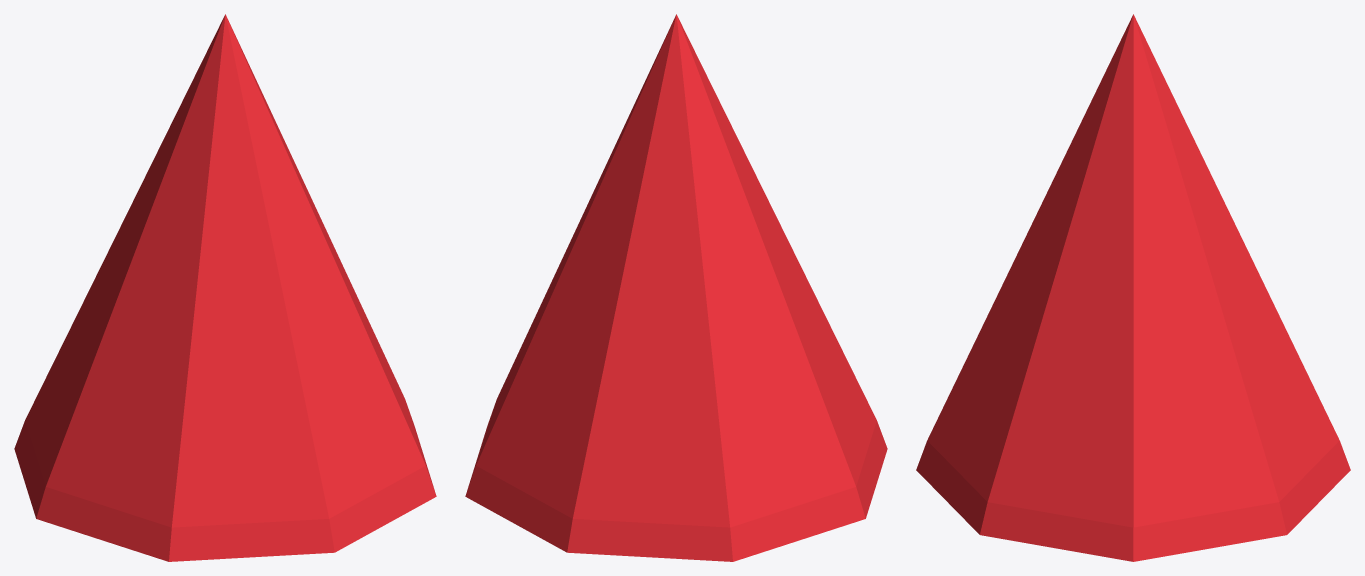
File: Nose.fbx
The picture shows the model from 3 angles, left to right: view 1: azimuth 30°, elevation 25°; view 2: azimuth 150°, elevation 25°; view 3: azimuth 270°, elevation 25°; orthographic projection.
Visible parts, largest first — view 1: Head; view 2: Head; view 3: Head.
Boxes of the visible parts, <box> form: Head: <box>14,14,436,561</box>; Head: <box>465,14,887,561</box>; Head: <box>916,14,1350,561</box>.
Size of the model in its own units: 147 by 170 by 147.
